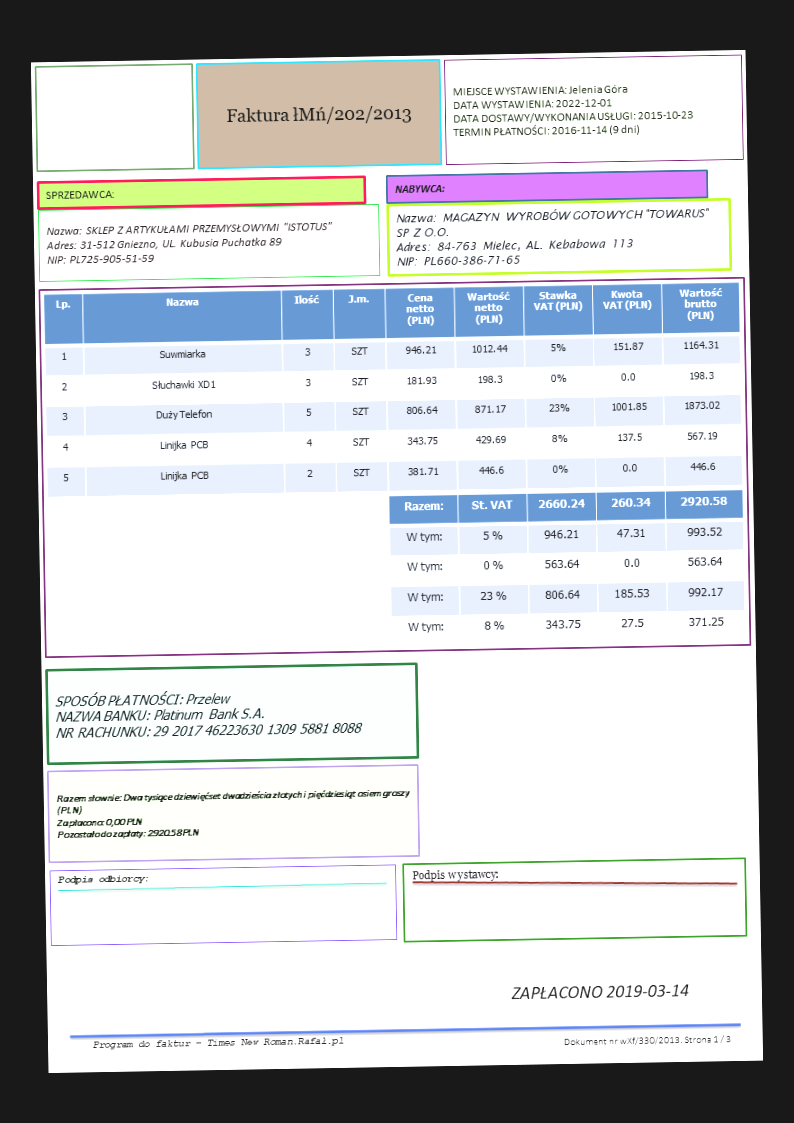Table: (42, 281, 742, 500), (388, 487, 746, 647)
TextBox: (394, 205, 711, 268), (54, 787, 413, 842), (53, 685, 364, 741), (450, 80, 696, 141), (44, 219, 335, 267), (223, 102, 412, 129), (92, 1035, 344, 1052), (509, 980, 690, 1002), (561, 1032, 733, 1048), (411, 866, 500, 885), (55, 872, 149, 887), (44, 187, 114, 202), (393, 181, 446, 197)
